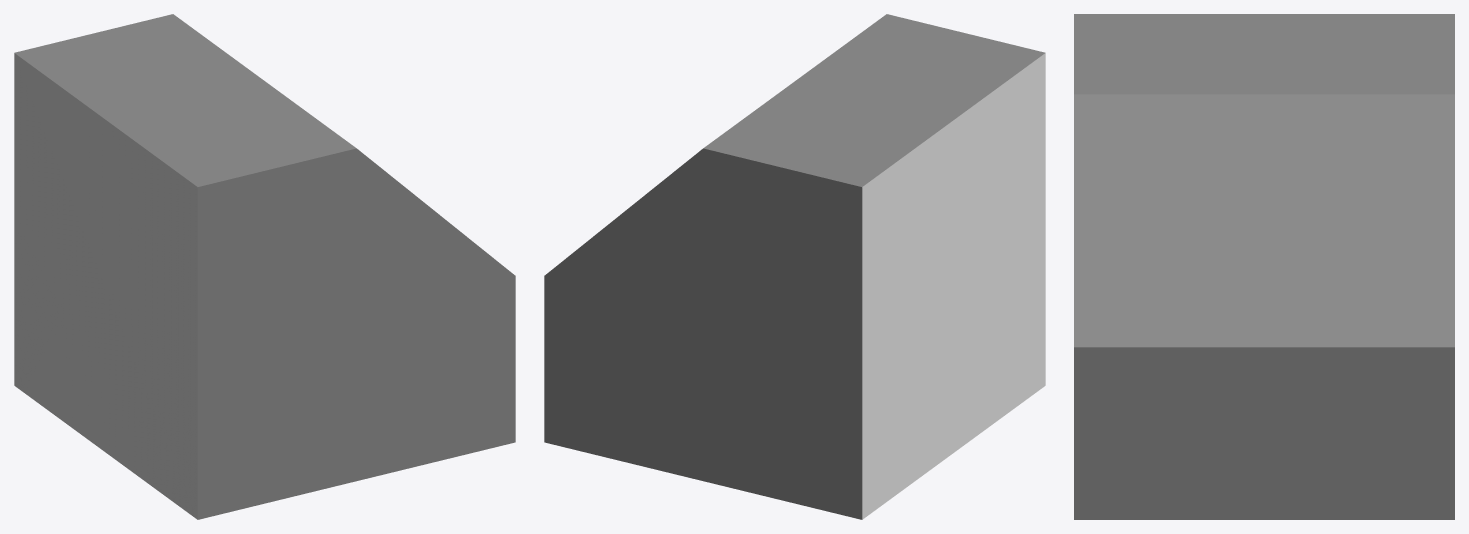
The model's file is r6c9_body_grey.gltf.
3 renders of one model, left to right at view 1: azimuth 30°, elevation 25°; view 2: azimuth 150°, elevation 25°; view 3: azimuth 270°, elevation 25°, orthographic. The views are drawn at different scales.
Visible parts, largest first — view 1: r6c9_body_grey; view 2: r6c9_body_grey; view 3: r6c9_body_grey.
Part boxes in pixels (bbox=[...]): r6c9_body_grey: bbox=[14, 14, 515, 519]; r6c9_body_grey: bbox=[544, 14, 1045, 519]; r6c9_body_grey: bbox=[1074, 14, 1454, 519].
Size of what is drawn, in the model's own units: 2 by 2 by 2.
Materials: 1 (1 with a texture image).
